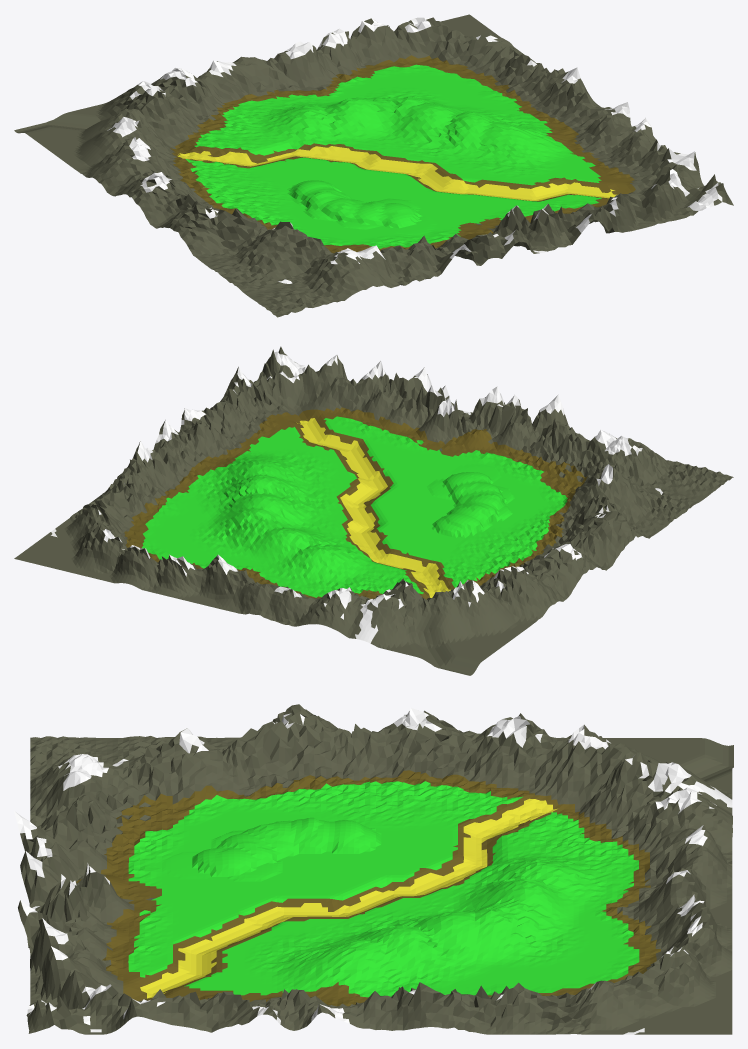
The model's file is Terrainw.fbx.
3 renders of one model, top to bottom at view 1: azimuth 30°, elevation 25°; view 2: azimuth 150°, elevation 25°; view 3: azimuth 270°, elevation 25°, orthographic. The views are drawn at different scales.
Visible parts, largest first — view 1: Plane; view 2: Plane; view 3: Plane.
Boxes of the visible parts, <box> form: Plane: <box>14,14,733,317</box>; Plane: <box>14,346,733,675</box>; Plane: <box>14,704,733,1034</box>.
Size of the model in its own units: 3636 by 331 by 3668.
